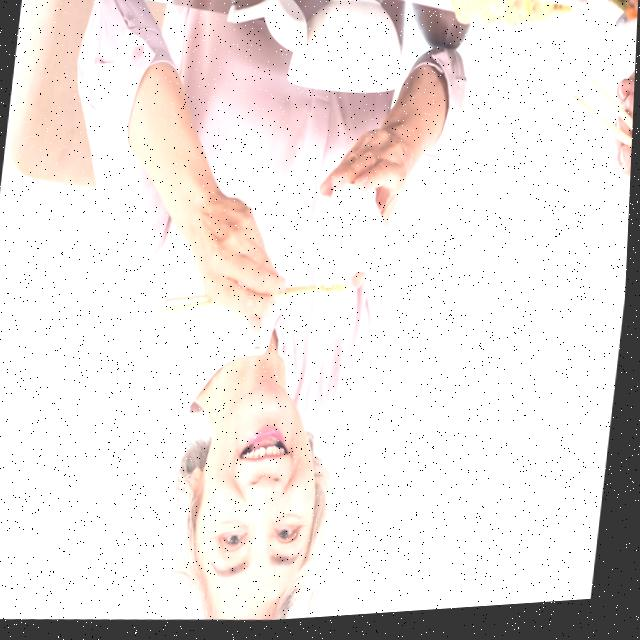eating-person: (14, 0, 540, 638)
